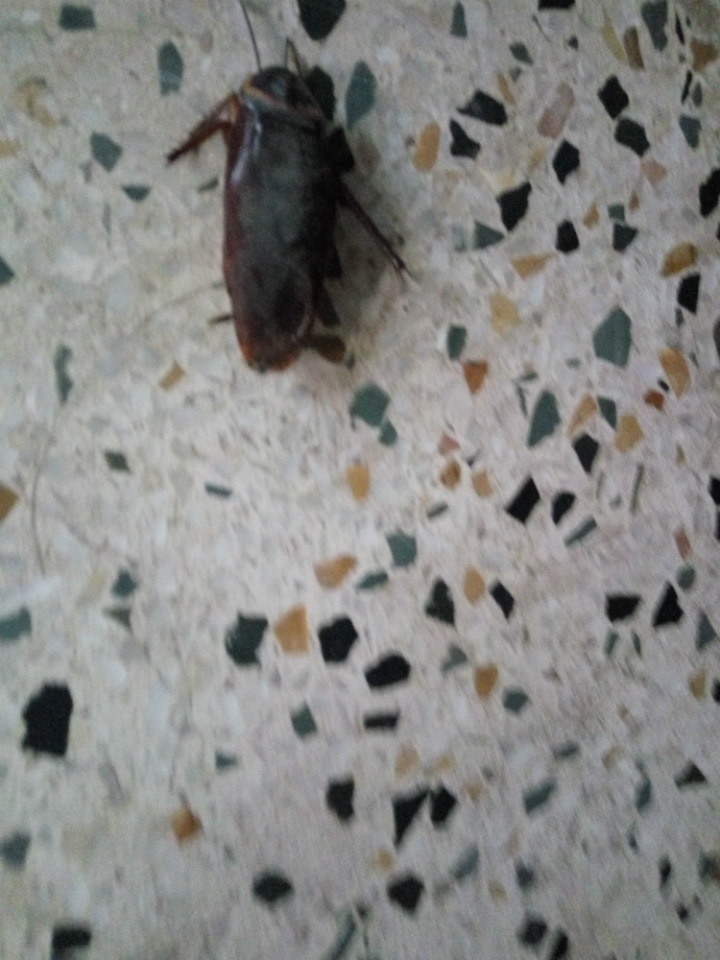cockroach: (168, 32, 418, 409)
